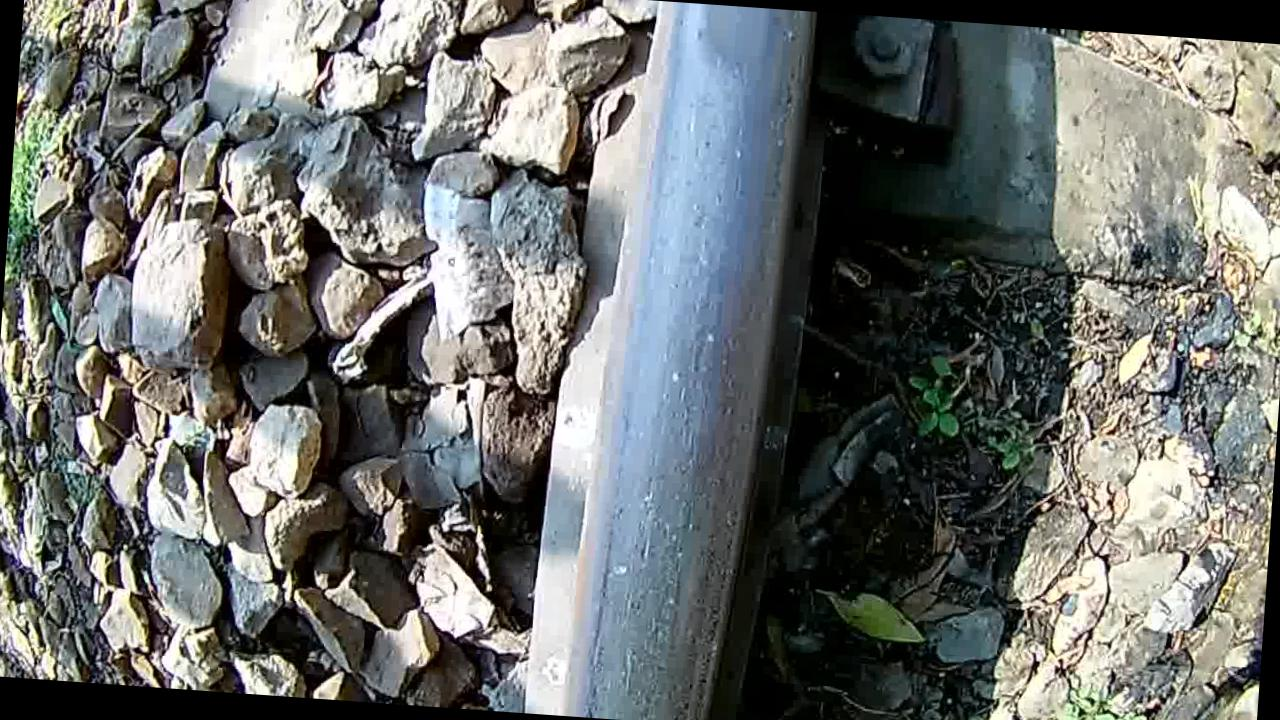bolt_missing: (656, 1, 829, 124)
